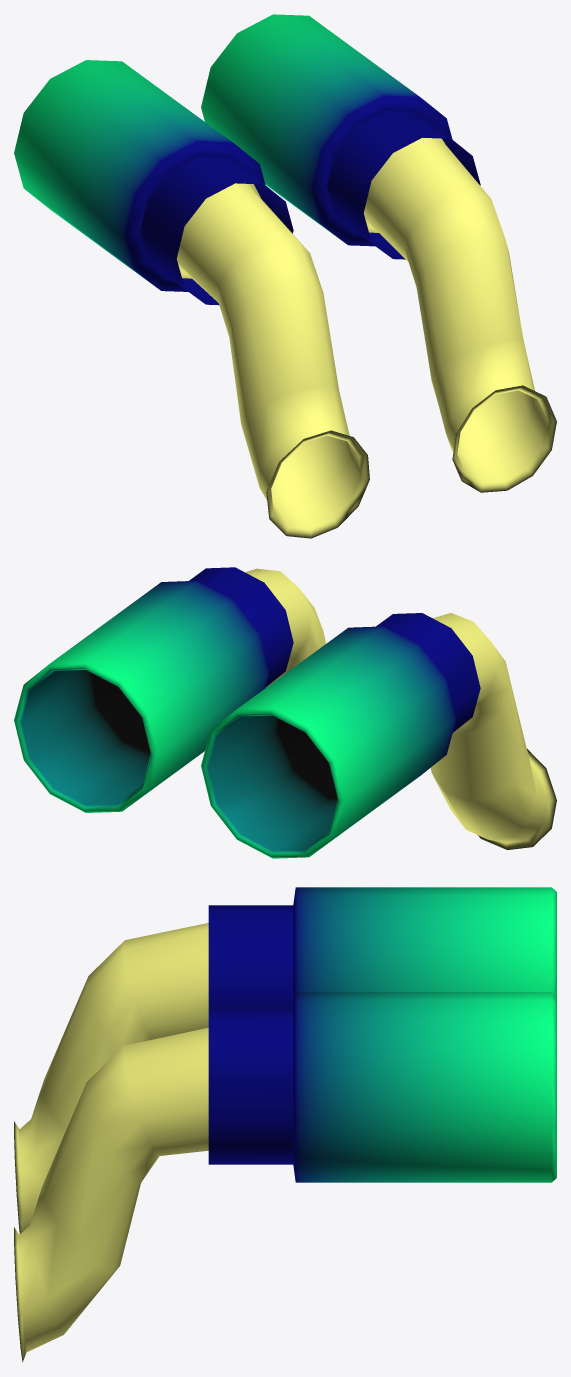
Rendered from Car_Mini_CountrymanJCW_2017_Exhausts_SetFK_AltB.fbx.
3 views of the same model, one above another, from view 1: azimuth 30°, elevation 25°; view 2: azimuth 150°, elevation 25°; view 3: azimuth 270°, elevation 25° (orthographic). The views are drawn at different scales.
Visible parts, largest first — view 1: Exhausts 6; view 2: Exhausts 6; view 3: Exhausts 6.
Boxes of the visible parts, bbox=[...] form: Exhausts 6: bbox=[14, 14, 556, 538]; Exhausts 6: bbox=[14, 567, 556, 858]; Exhausts 6: bbox=[14, 887, 556, 1362].
Size of the model in its own units: 0.2196 by 0.196 by 0.2712.
